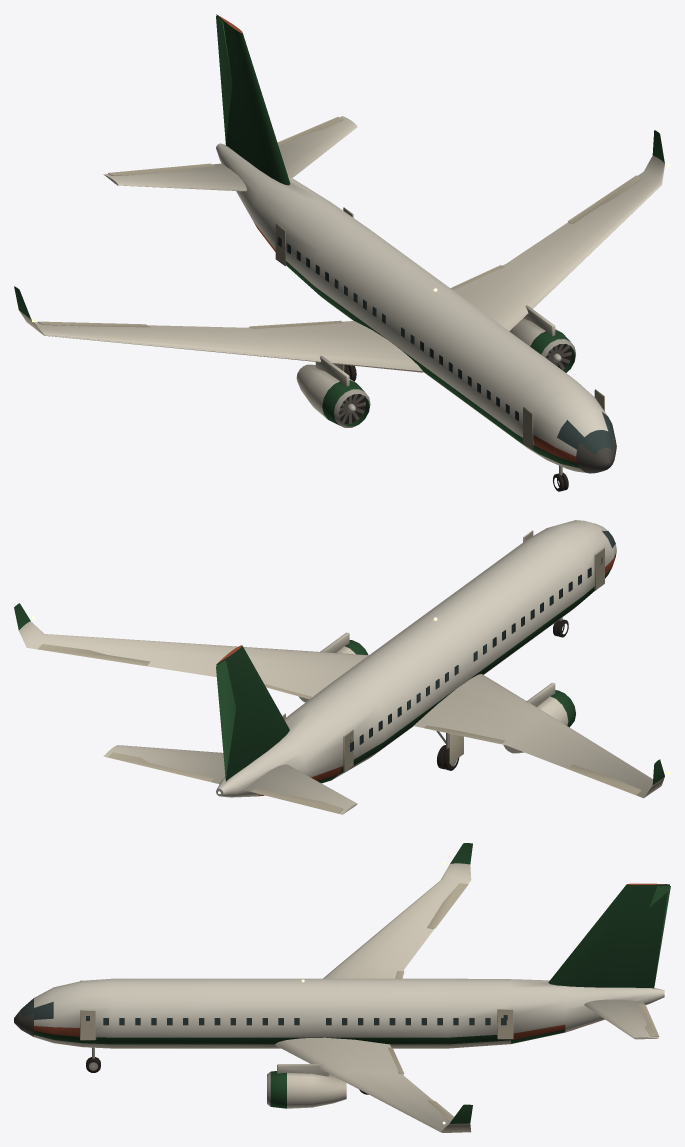
The model's file is airliner.glb.
3 views of the same model, one above another, from view 1: azimuth 30°, elevation 25°; view 2: azimuth 150°, elevation 25°; view 3: azimuth 270°, elevation 25° (orthographic). The views are drawn at different scales.
Parts seen in each view (by area): view 1: airliner_mesh, PART_rudder_mesh; view 2: airliner_mesh, PART_rudder_mesh, PART_aileron_l_mesh, PART_elevator_l_mesh, PART_elevator_r_mesh, PART_aileron_r_mesh, PART_gear_main_r_mesh; view 3: airliner_mesh, PART_door_front_l_mesh, PART_aileron_r_mesh, PART_door_rear_l_mesh.
Part boxes in pixels (x1=…): airliner_mesh: x1=14, y1=14, x2=670, y2=473; PART_rudder_mesh: x1=216, y1=16, x2=232, y2=141; airliner_mesh: x1=14, y1=520, x2=670, y2=814; PART_rudder_mesh: x1=216, y1=660, x2=235, y2=778; PART_aileron_l_mesh: x1=37, y1=644, x2=150, y2=665; PART_elevator_l_mesh: x1=108, y1=752, x2=214, y2=781; PART_elevator_r_mesh: x1=252, y1=788, x2=342, y2=813; PART_aileron_r_mesh: x1=568, y1=764, x2=641, y2=795; PART_gear_main_r_mesh: x1=436, y1=731, x2=463, y2=763; airliner_mesh: x1=14, y1=843, x2=669, y2=1132; PART_door_front_l_mesh: x1=80, y1=1010, x2=96, y2=1040; PART_aileron_r_mesh: x1=427, y1=883, x2=468, y2=928; PART_door_rear_l_mesh: x1=497, y1=1009, x2=513, y2=1039.
Size of the model in its own units: 34.24 by 11.45 by 36.35.
